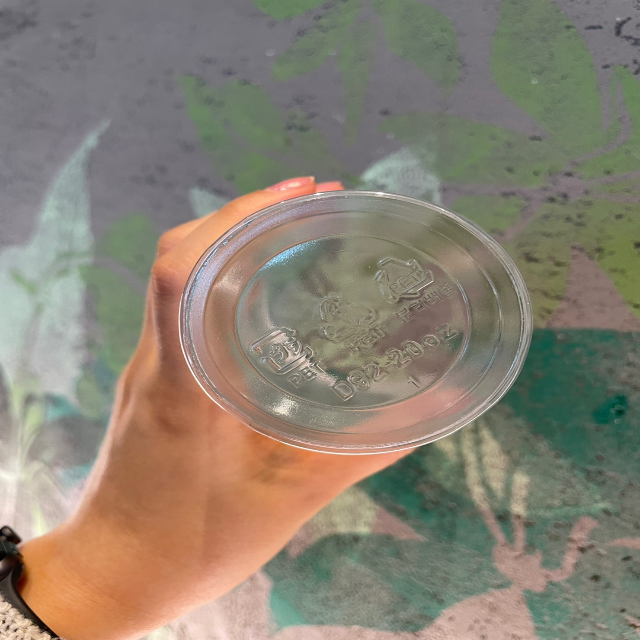pet: (370, 251, 458, 323), (246, 325, 332, 389), (314, 289, 391, 356)
